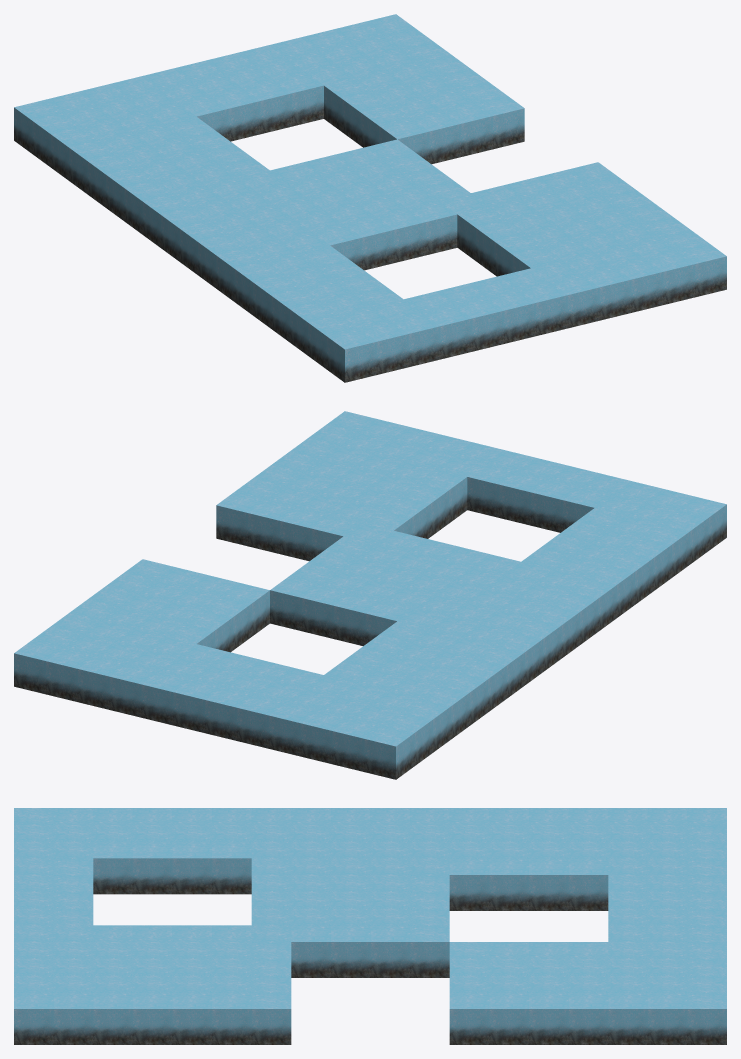
File: Stage_Block_3_3_2F.fbx
The picture shows the model from 3 angles, top to bottom: view 1: azimuth 30°, elevation 25°; view 2: azimuth 150°, elevation 25°; view 3: azimuth 270°, elevation 25°; orthographic projection. The views are drawn at different scales.
Visible parts, largest first — view 1: polySurface97; view 2: polySurface97; view 3: polySurface97.
Part boxes in pixels (bbox=[...]): polySurface97: bbox=[14, 14, 726, 382]; polySurface97: bbox=[14, 411, 726, 779]; polySurface97: bbox=[14, 808, 726, 1044].
Bounding box in the file's own units: 2400 × 200 × 3600.
Materials: 1 (1 with a texture image).
